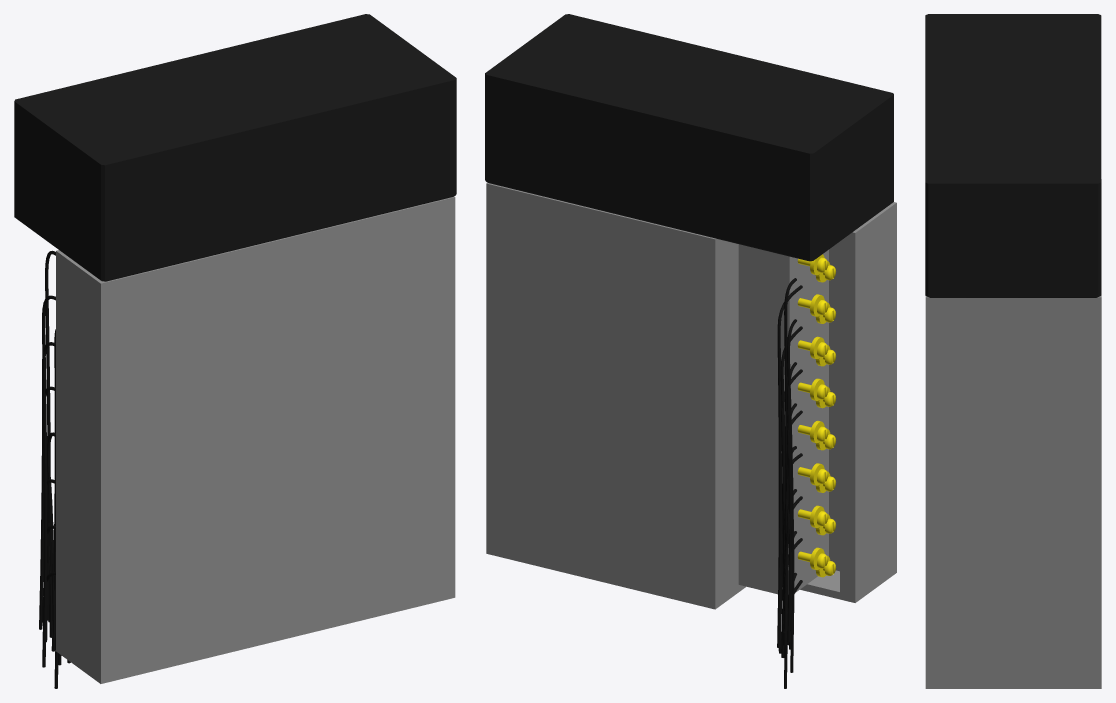
File: plc2.FBX
3 views of the same model, side by side, from view 1: azimuth 30°, elevation 25°; view 2: azimuth 150°, elevation 25°; view 3: azimuth 270°, elevation 25° (orthographic). The views are drawn at different scales.
Visible parts, largest first — view 1: Box15129; view 2: Box15129; view 3: Box15129.
Boxes of the visible parts, box(x1,y1,x2,y2) form: Box15129: box(14, 14, 456, 688); Box15129: box(485, 14, 896, 688); Box15129: box(925, 14, 1101, 688).
Size of the model in its own units: 15.38 by 24.35 by 6.71.
